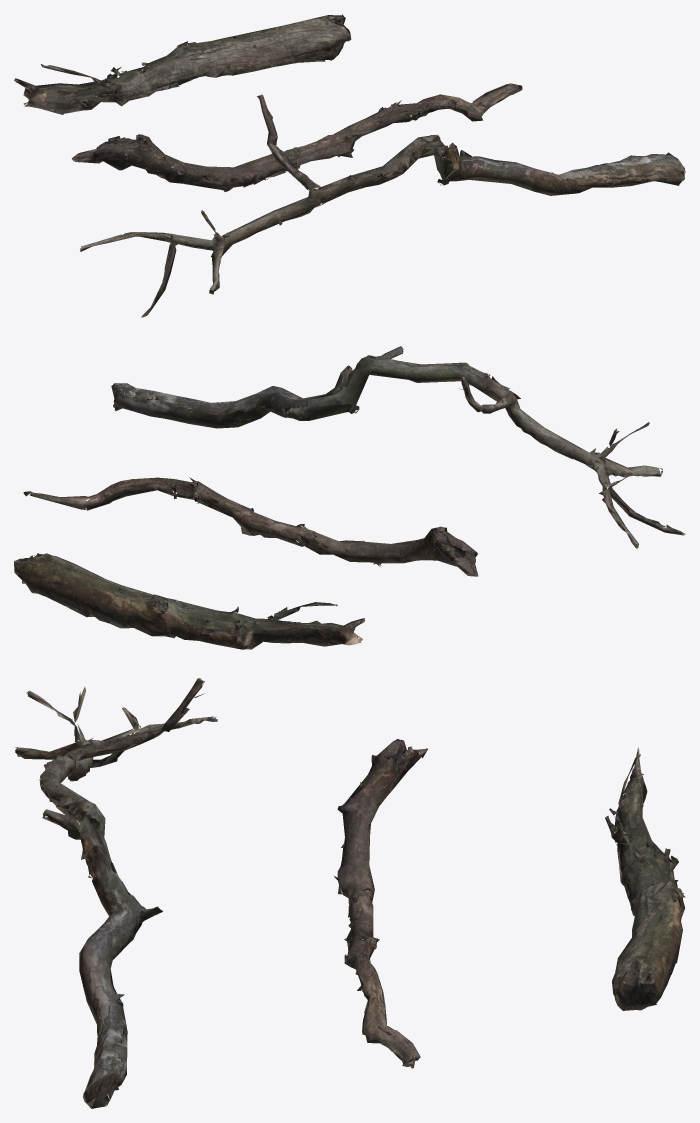
Rendered from galho.glb.
The picture shows the model from 3 angles, top to bottom: view 1: azimuth 30°, elevation 25°; view 2: azimuth 150°, elevation 25°; view 3: azimuth 270°, elevation 25°; orthographic projection. The views are drawn at different scales.
Parts seen in each view (by area): view 1: Malha; view 2: Malha; view 3: Malha.
Boxes of the visible parts, x1=… form: Malha: x1=14, y1=14, x2=685, y2=317; Malha: x1=14, y1=346, x2=685, y2=649; Malha: x1=15, y1=678, x2=685, y2=1108.
Bounding box in the file's own units: 0.6986 × 0.1832 × 0.5701.
1 material, 1 textured.
